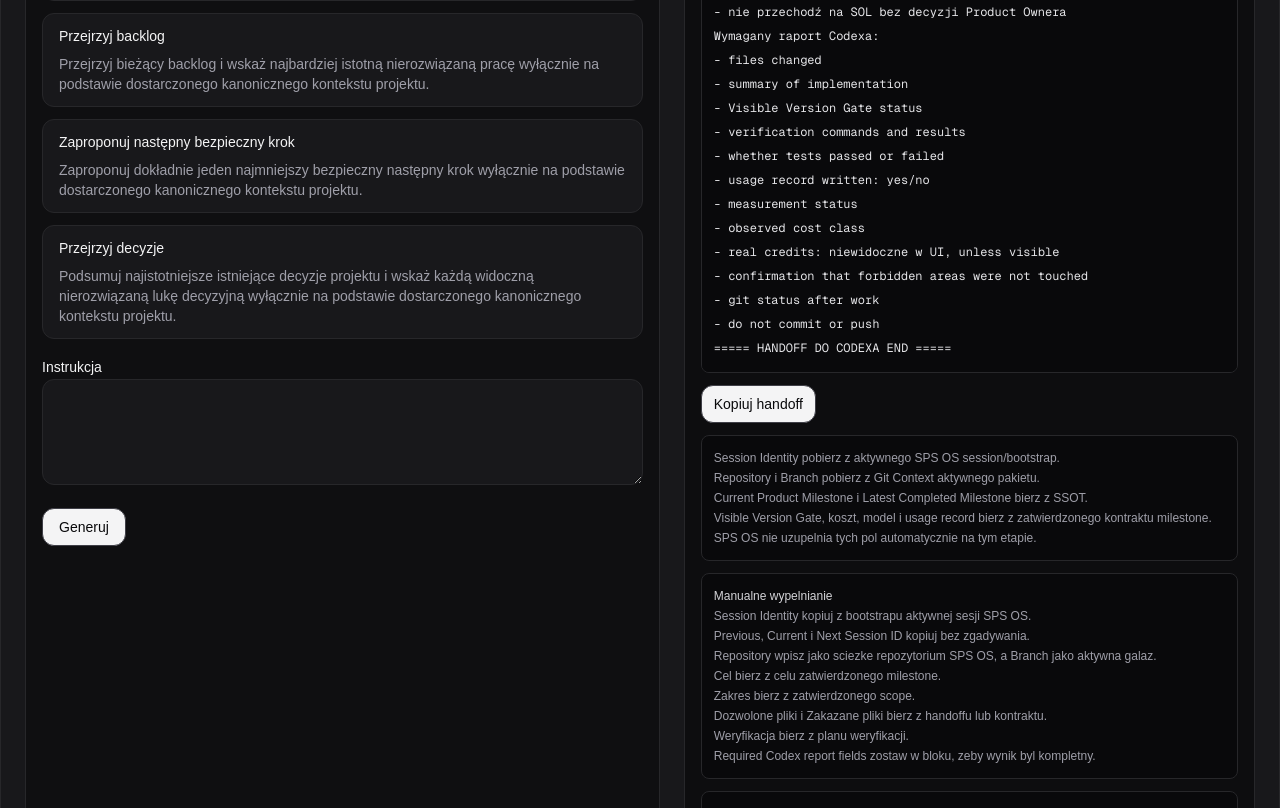
Test: ProjectAiWorkspacePage › sends the correct request and renders the generated text
(page scrolled)
Type "Summarize project" into the text box labelled "Instrukcja" at point(342, 432), box left=42, top=379, right=643, bottom=485
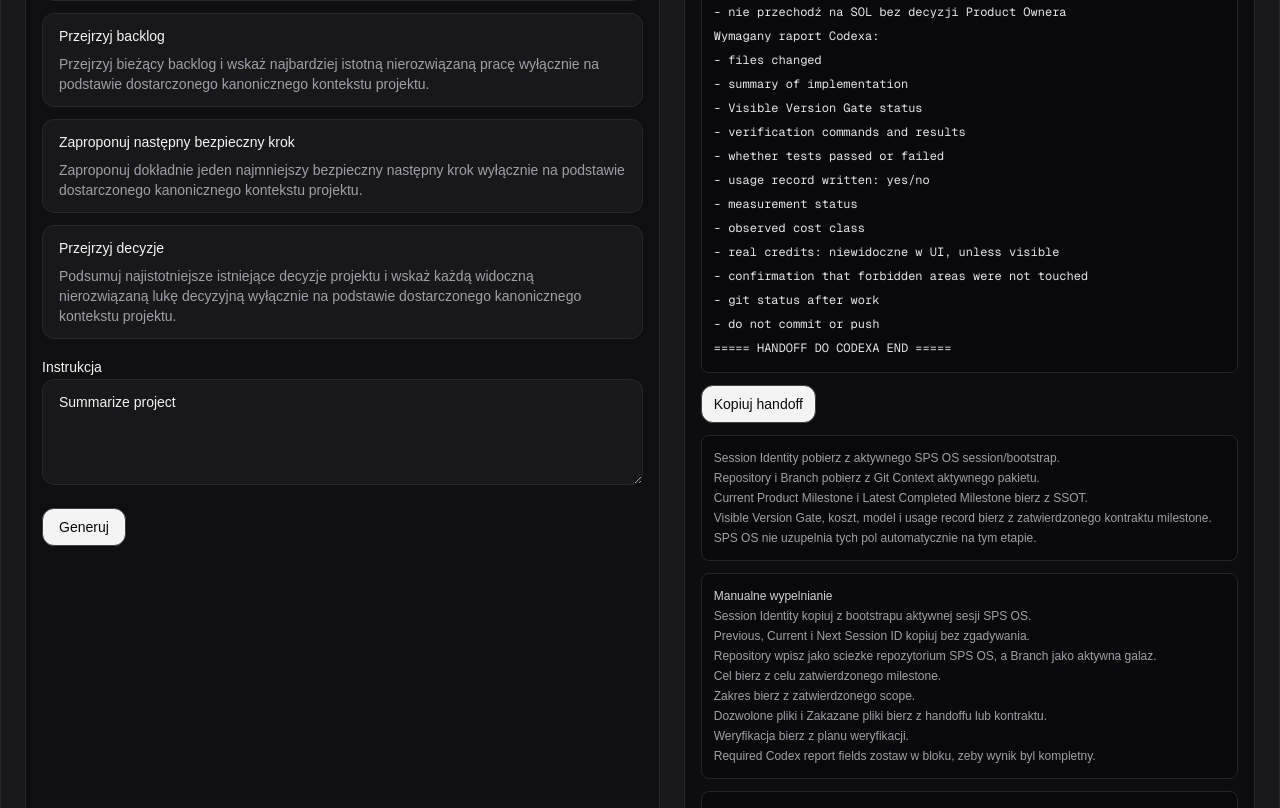
Click the button "Generuj" at point(84, 527), box left=42, top=508, right=126, bottom=546
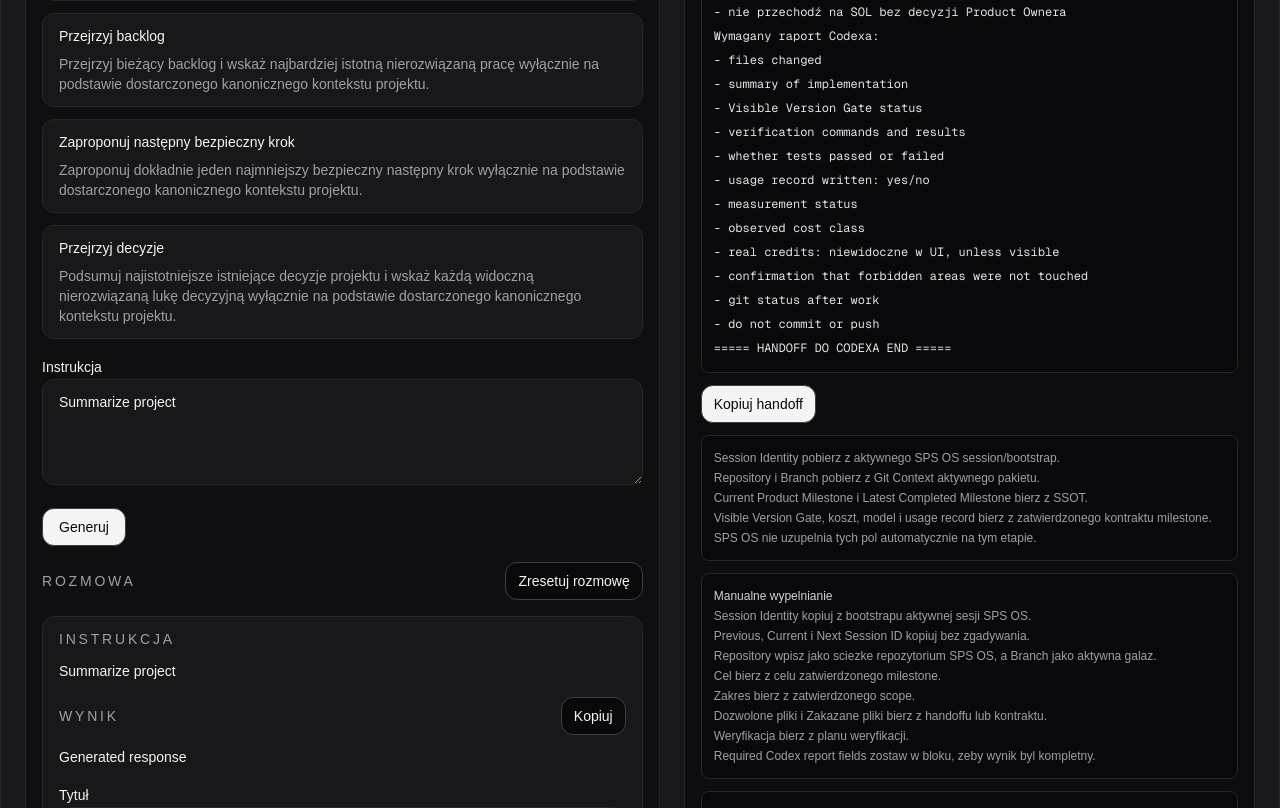
Now the text "Generated response" is shown, box left=59, top=749, right=187, bottom=765
